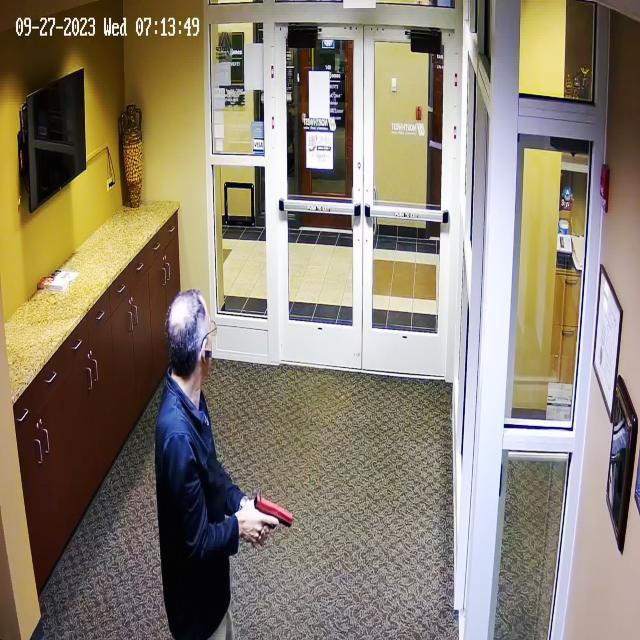Gun: (244, 486, 301, 542)
